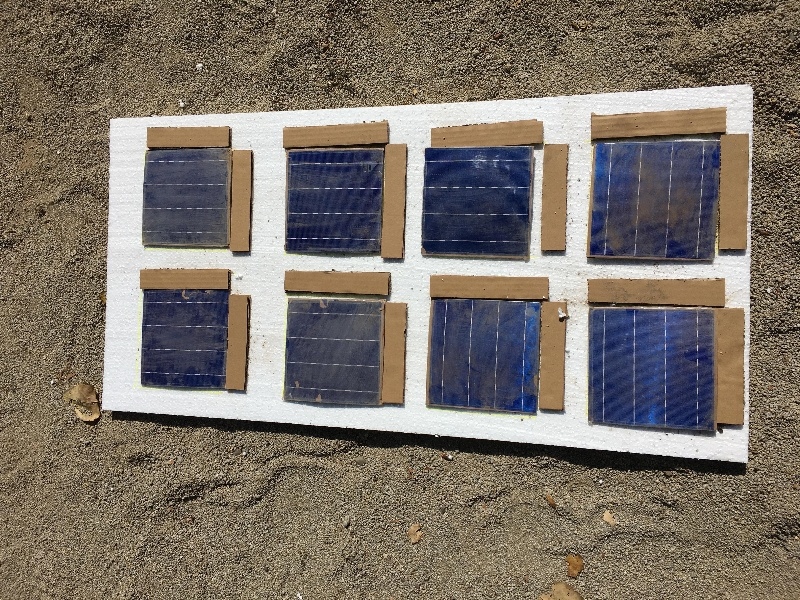clean: (589, 307, 715, 438), (422, 150, 532, 258), (428, 302, 536, 411), (280, 150, 383, 251), (140, 292, 224, 387)
dirty: (590, 147, 717, 251), (285, 298, 380, 405), (133, 155, 235, 246)
